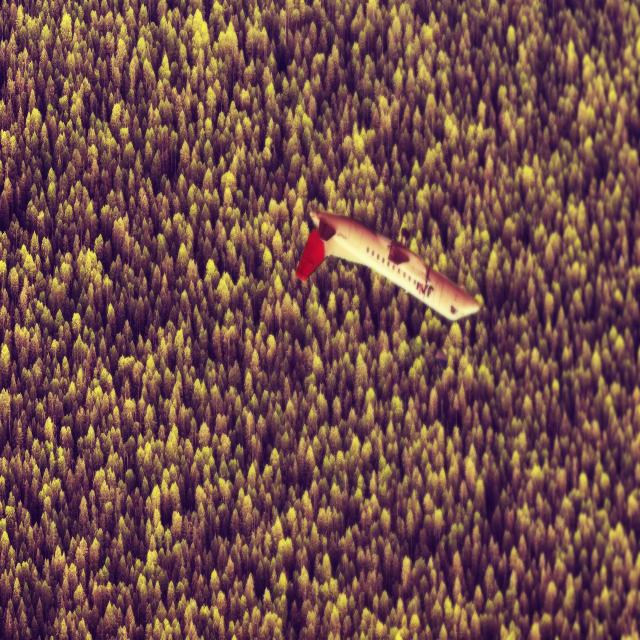airplane: (295, 207, 480, 323)
